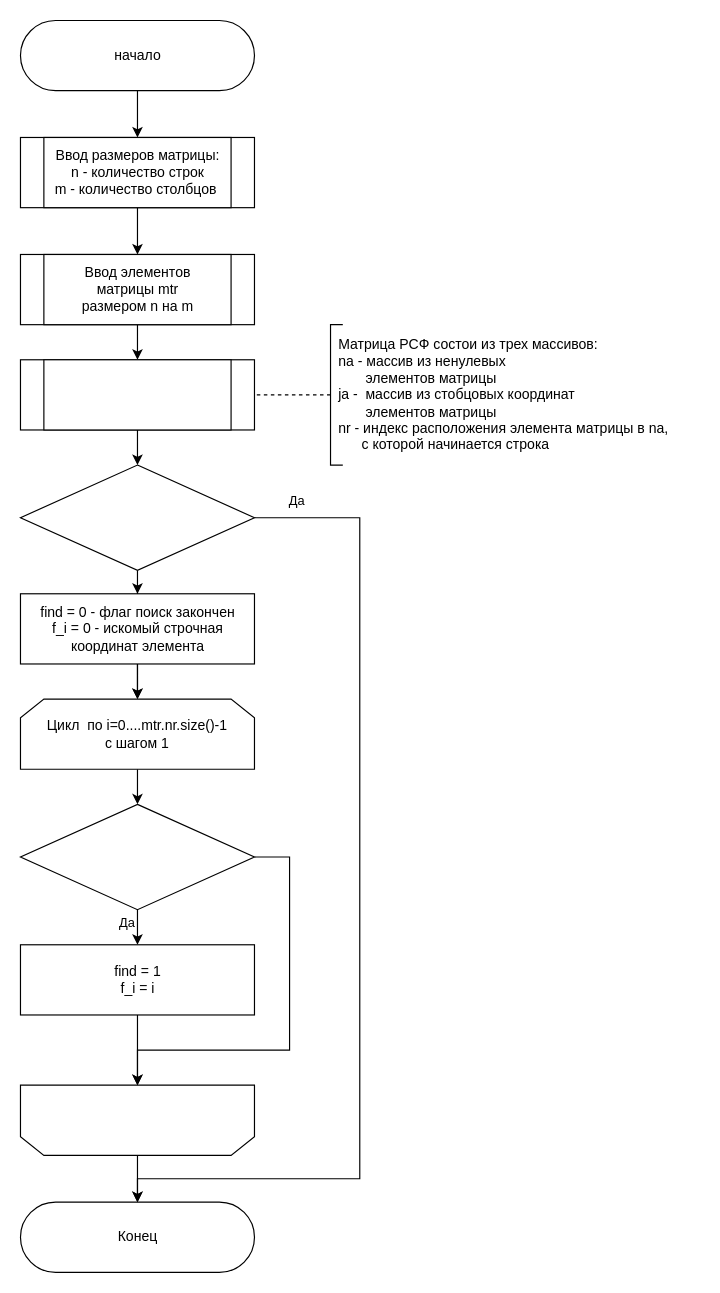
The diagram is 720 pixels wide and 1293 high, and some of its shapes have lost their labels. Here are the shapes that lost their labels. From the top down, the centre of each, then its label:
[137,394]: Ввод индекс элемента матрицы по mtr.na с - индекс элемента
[136,517]: Матрица состоит из нулевых элементов,?
[136,856]: mtr.nr[i] <= c && c < mtr.nr[i + 1]
[136,1119]: Конец цикла по i
